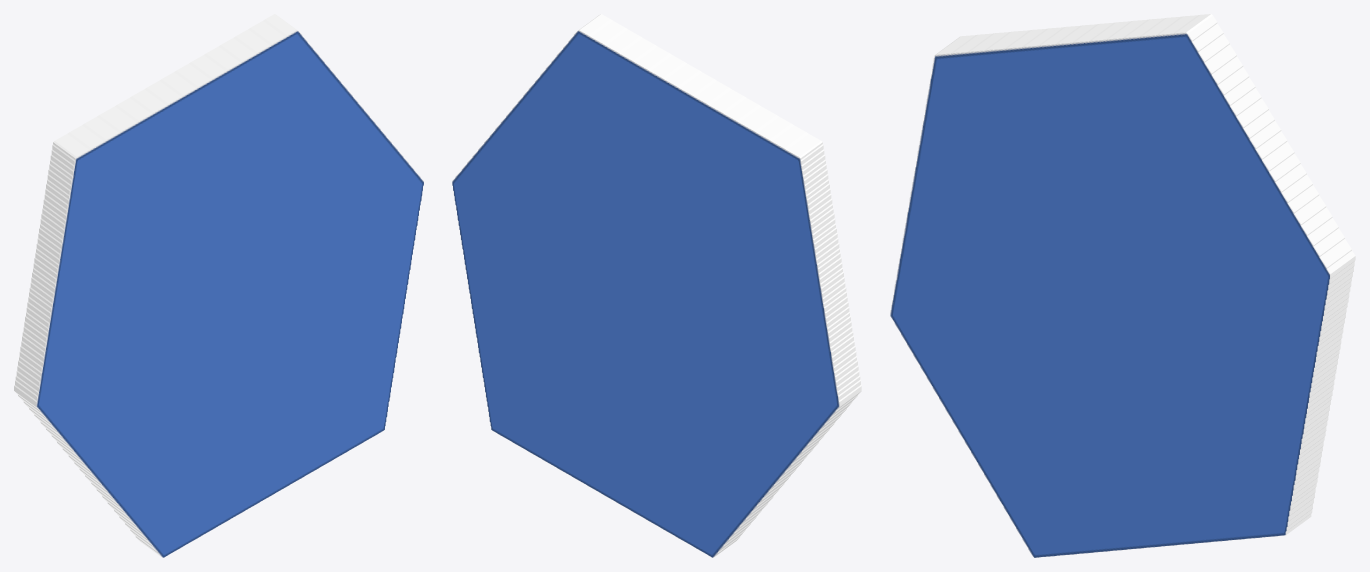
File: simple_model7.glb
The picture shows the model from 3 angles, left to right: view 1: azimuth 30°, elevation 25°; view 2: azimuth 150°, elevation 25°; view 3: azimuth 330°, elevation 25°; orthographic projection. The views are drawn at different scales.
Size of the model in its own units: 1 by 1.22 by 0.1.
2 materials, 1 textured.
